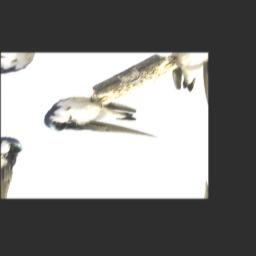Swallow: (31, 78, 164, 171)
